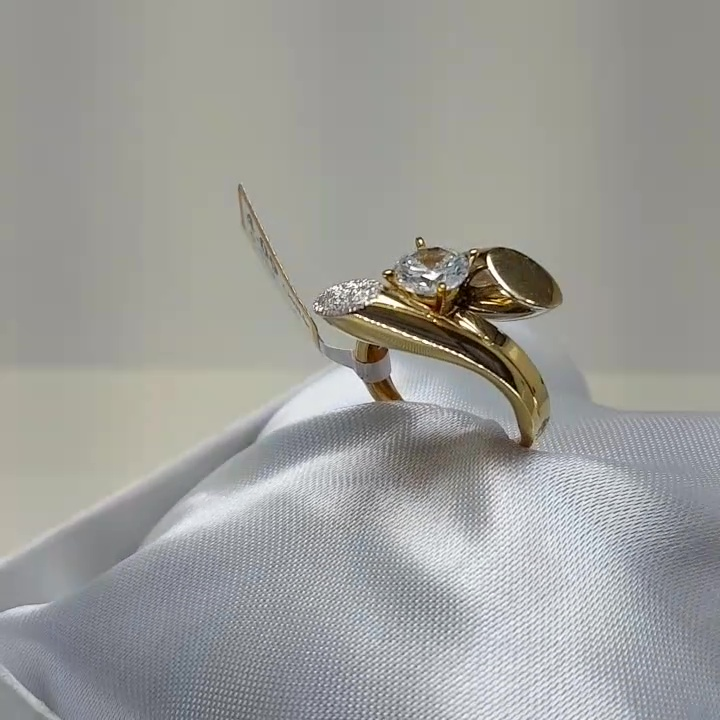Ring 7: (312, 232, 575, 447)
